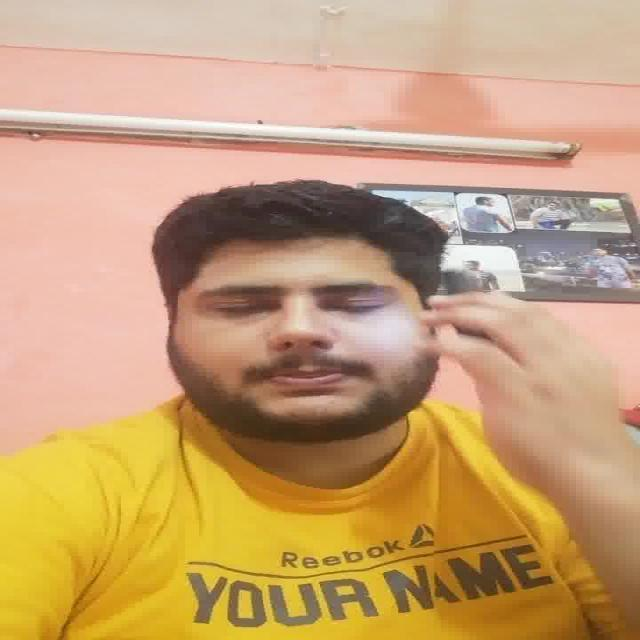Phone: (443, 267, 481, 342)
